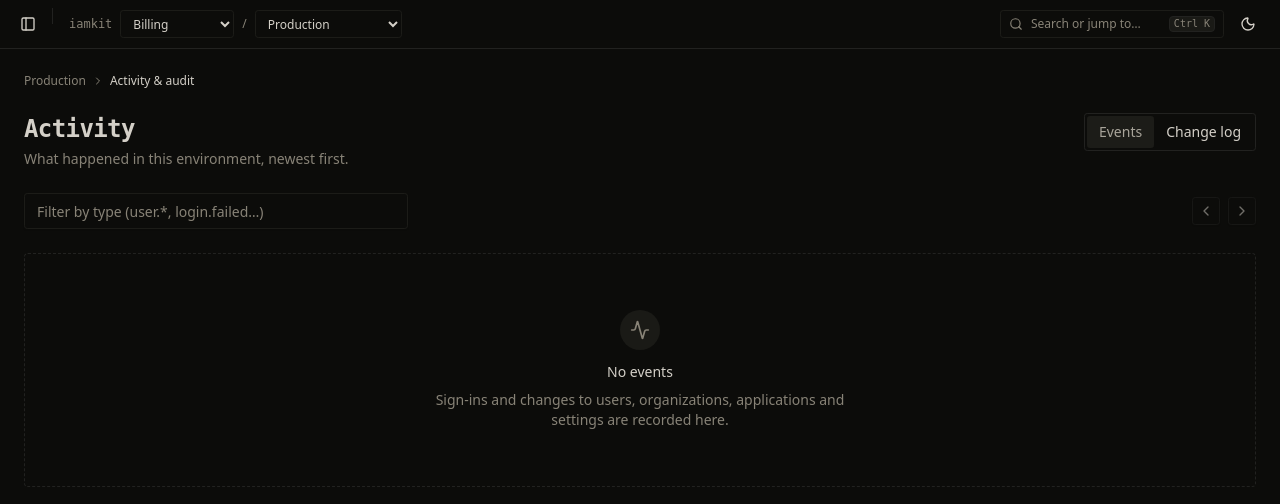
Test: labels audit events made by end users
The width and height of the screenshot is (1280, 504).
Click the button "Change log". click: (1204, 132)
box: [1154,116,1253,148]
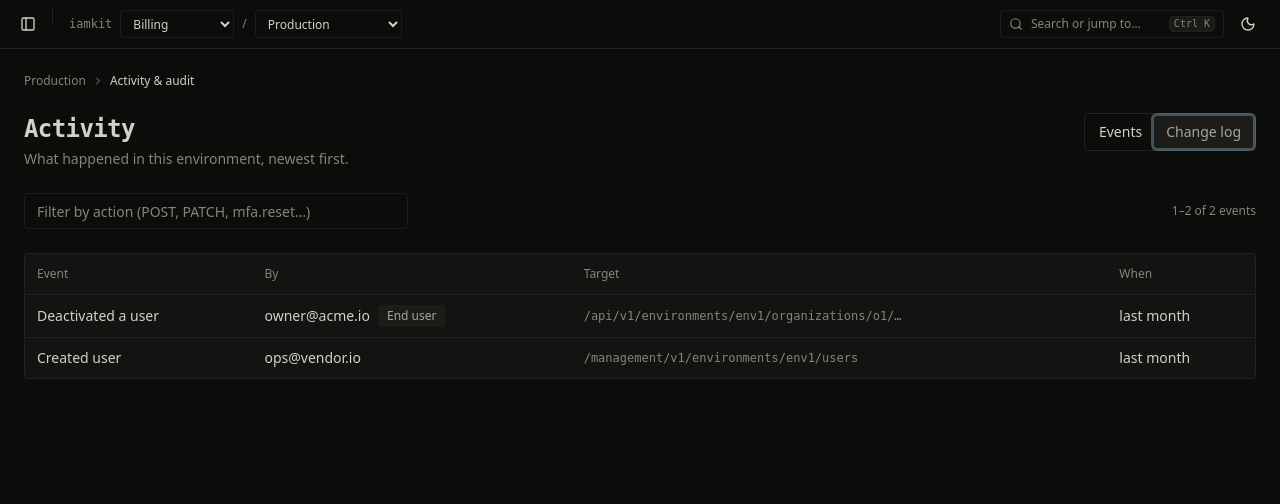
expect the text "End user" is shown: met, box [378,304,446,326]
